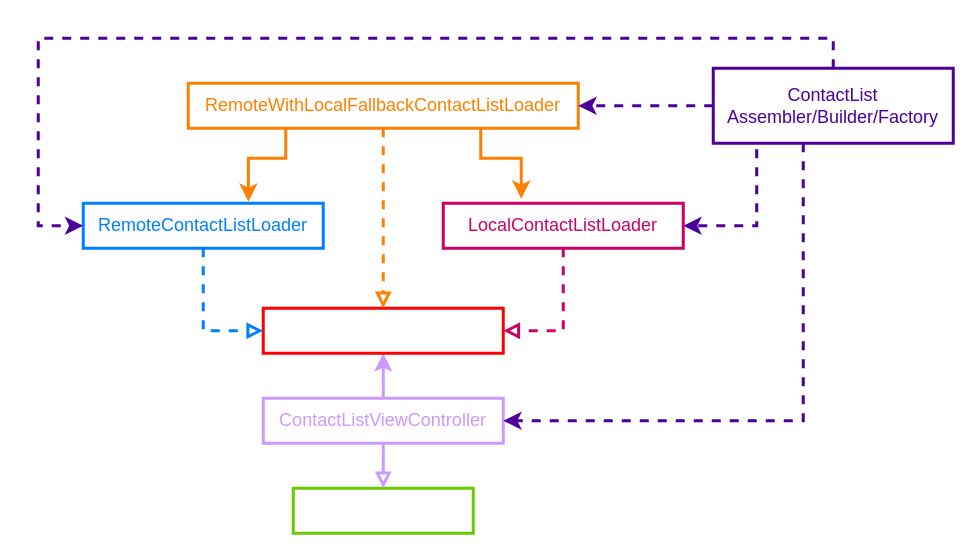
Image size: 980x560. Some labels were removed from this diagram. Each missing label, with the centre of its shape:
"<ContactListLoader>" belongs at point (382, 330).
"UIViewController" belongs at point (382, 510).
